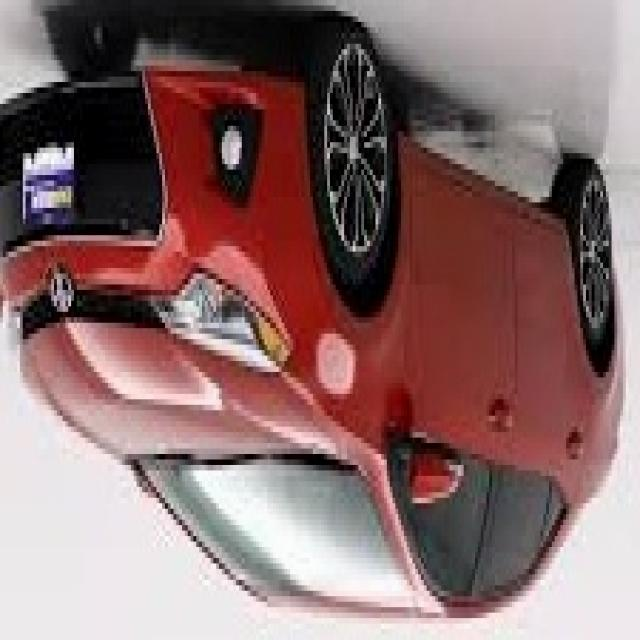red: (1, 20, 621, 640)
